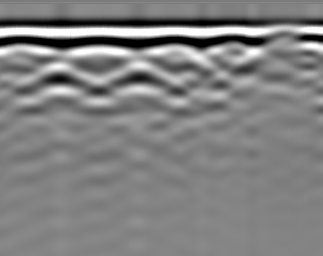pipe: (259, 22, 305, 50)
steel: (107, 63, 175, 100), (35, 62, 85, 97)
